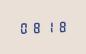eight: (30, 20, 41, 34), (54, 19, 65, 33)
one: (42, 20, 53, 33)
zero: (18, 20, 29, 34)
